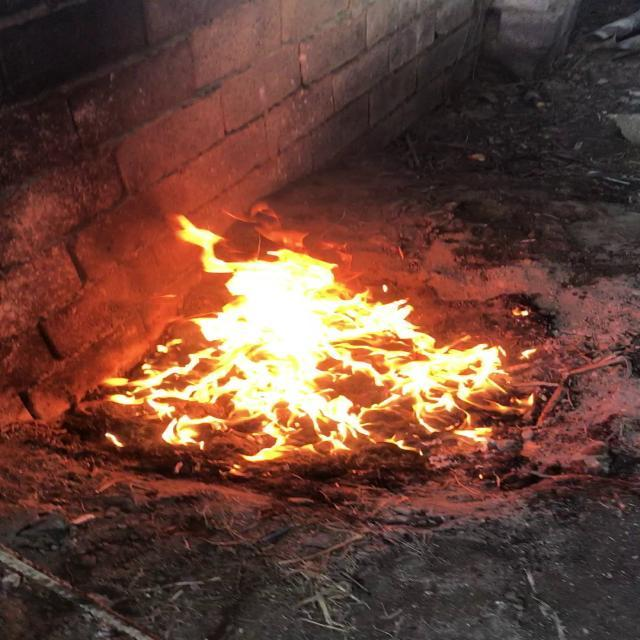Fire: (142, 219, 517, 453)
